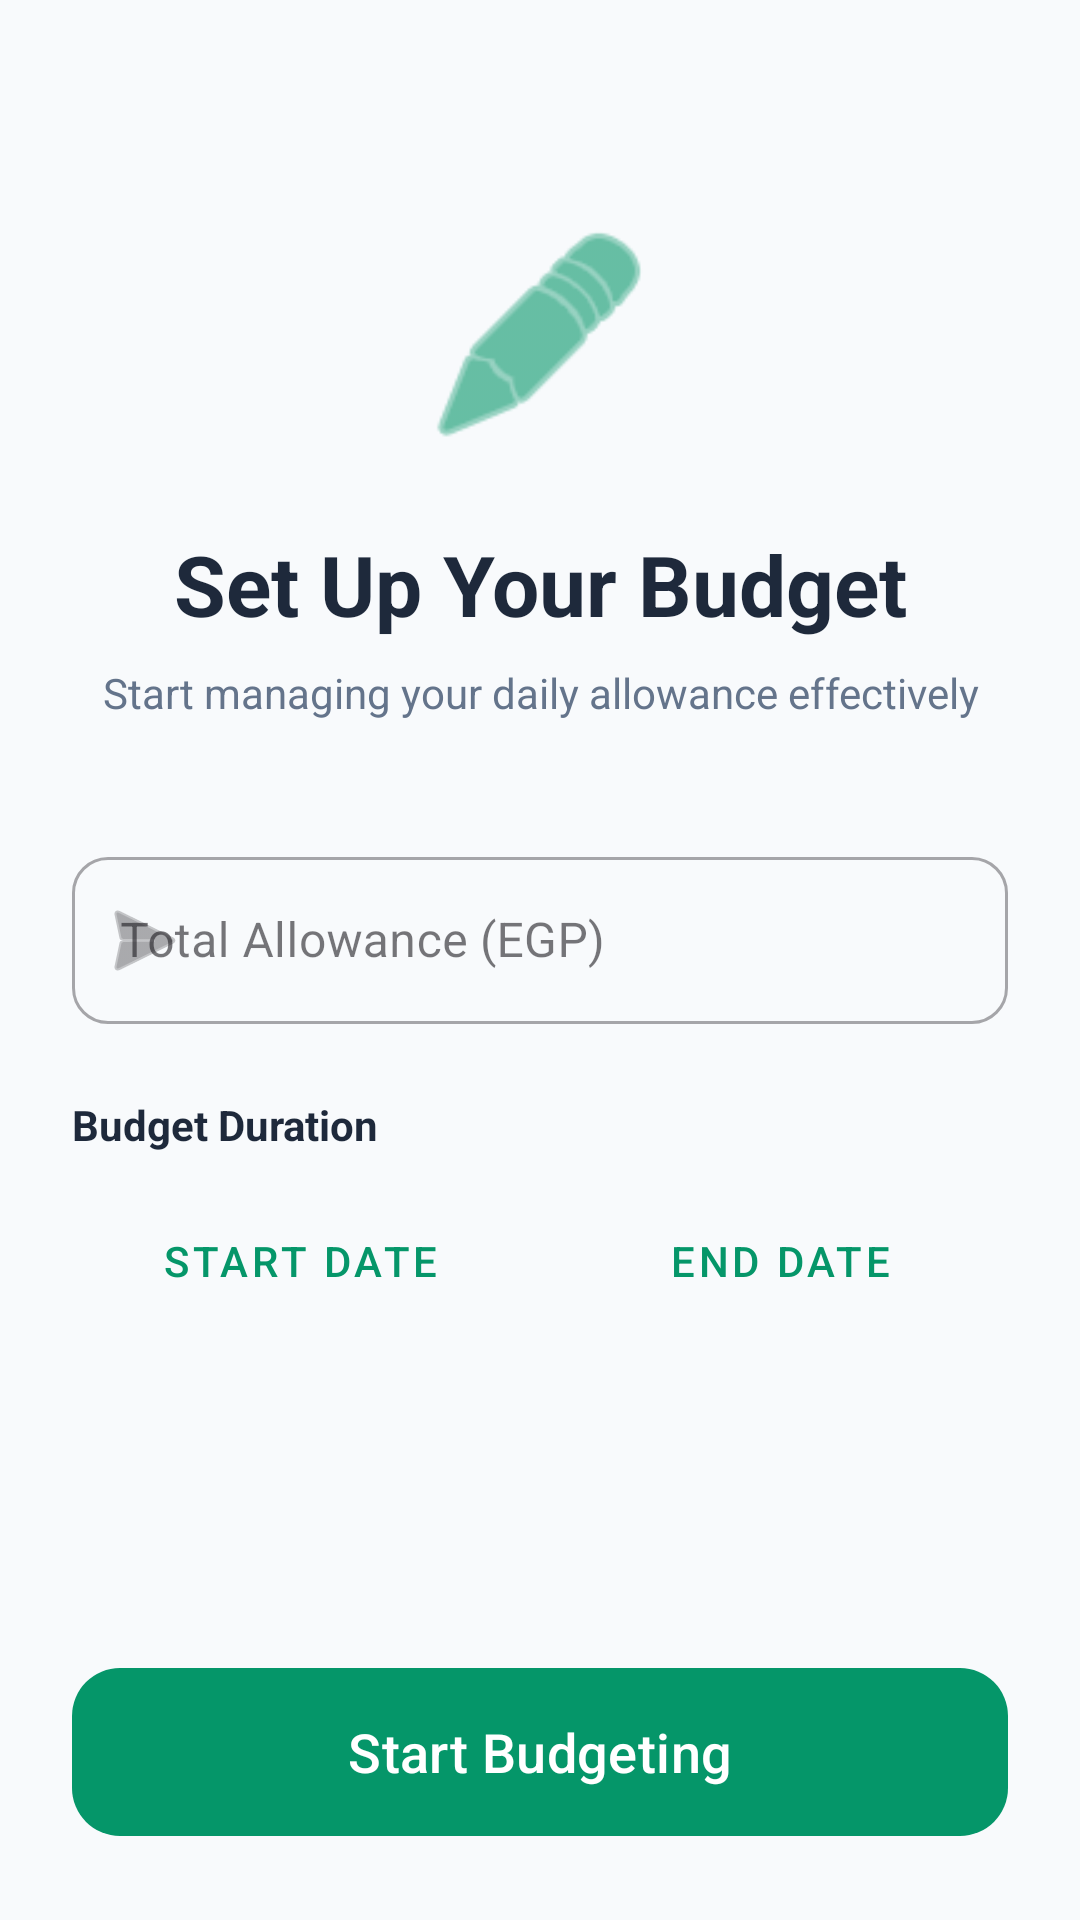

Where to tap for icons on this 1080*1920 app screen, as (x=x, y=y):
edit: (x=539, y=334)
